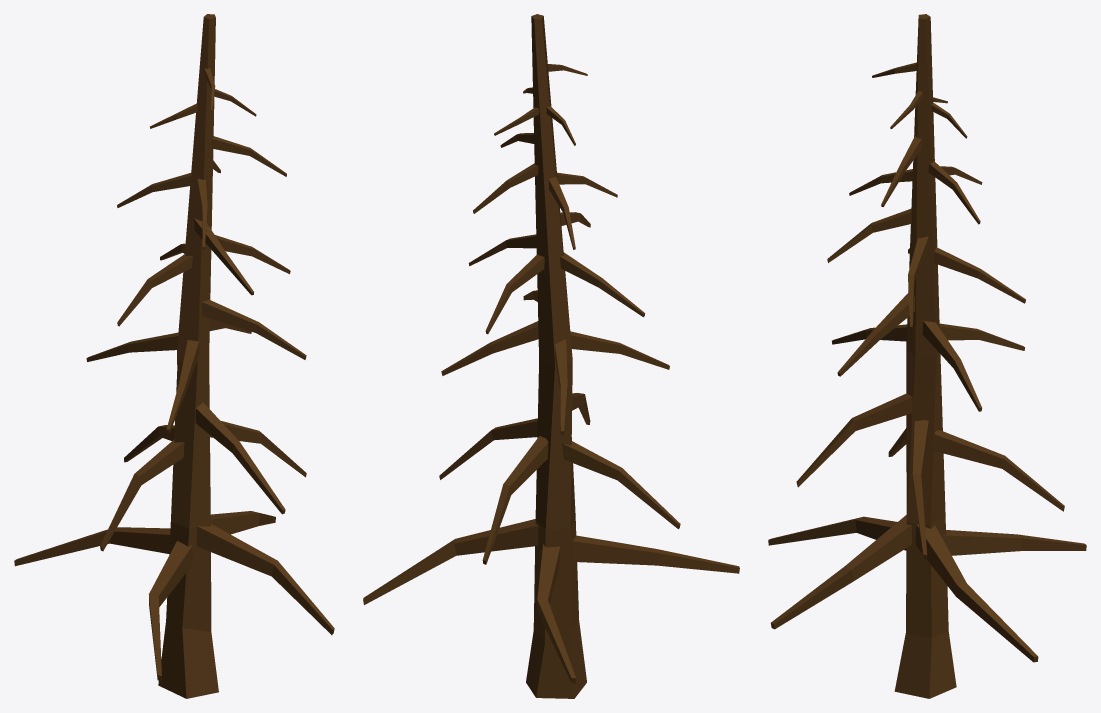
File: forest-dead-spruce.glb
3 renders of one model, left to right at view 1: azimuth 30°, elevation 25°; view 2: azimuth 150°, elevation 25°; view 3: azimuth 270°, elevation 25°, orthographic. The views are drawn at different scales.
Visible parts, largest first — view 1: DeadSpruce1; view 2: DeadSpruce1; view 3: DeadSpruce1.
Part boxes in pixels (box(x1,y1,x2,y2)): DeadSpruce1: box(14, 14, 334, 698); DeadSpruce1: box(363, 14, 739, 698); DeadSpruce1: box(768, 14, 1086, 698).
Bounding box in the file's own units: 4.75 × 12.2 × 5.2.
